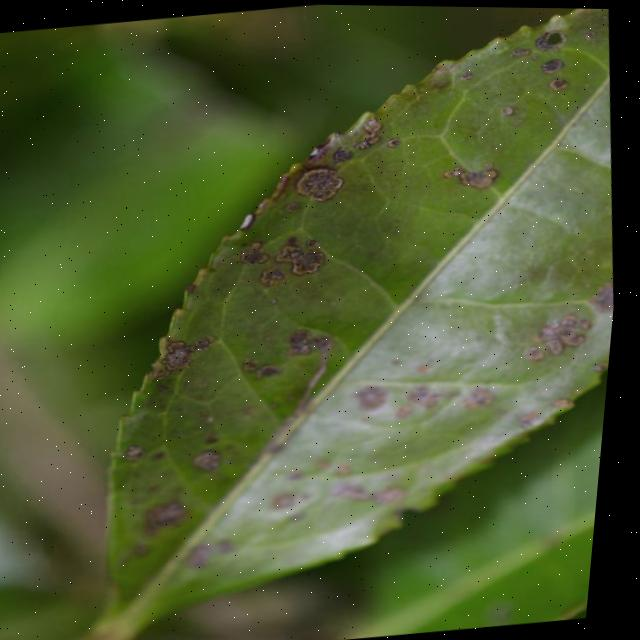Tea red rust: (69, 24, 628, 605)
